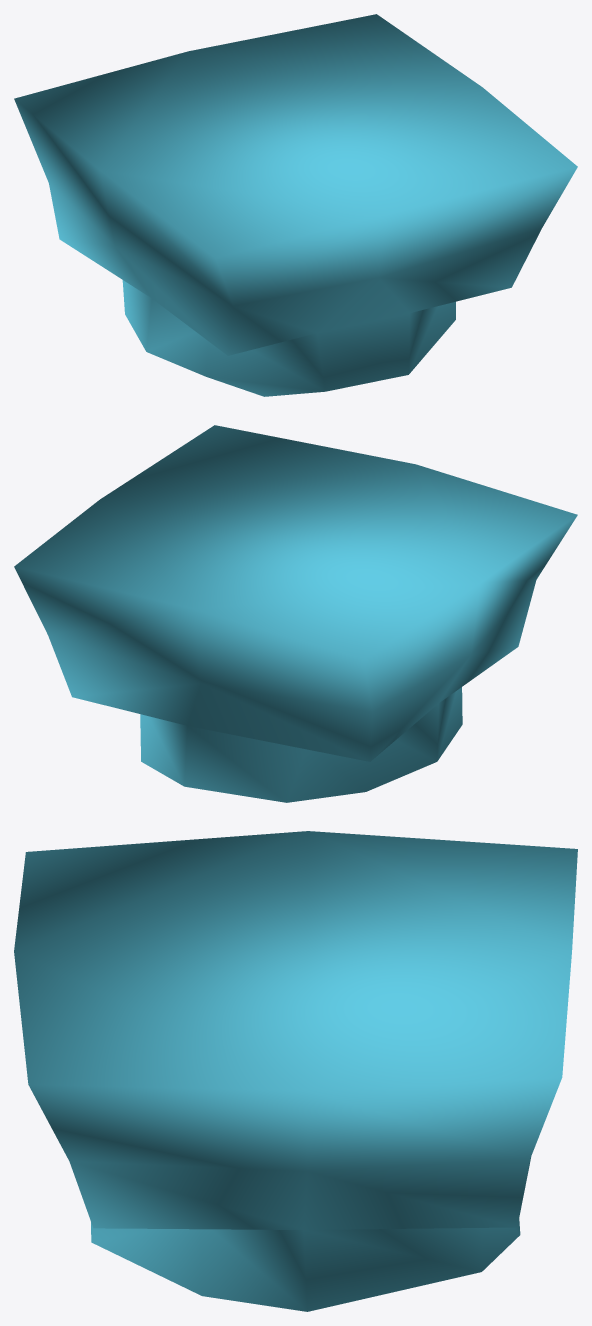
Rendered from column_05.FBX.
The picture shows the model from 3 angles, top to bottom: view 1: azimuth 30°, elevation 25°; view 2: azimuth 150°, elevation 25°; view 3: azimuth 270°, elevation 25°; orthographic projection. The views are drawn at different scales.
Visible parts, largest first — view 1: column_05; view 2: column_05; view 3: column_05.
Boxes of the visible parts, left/top/right/bottom form: column_05: left=14, top=14, right=577, bottom=396; column_05: left=14, top=425, right=577, bottom=802; column_05: left=14, top=831, right=577, bottom=1311.
Bounding box in the file's own units: 35.5 × 18.35 × 34.24.
